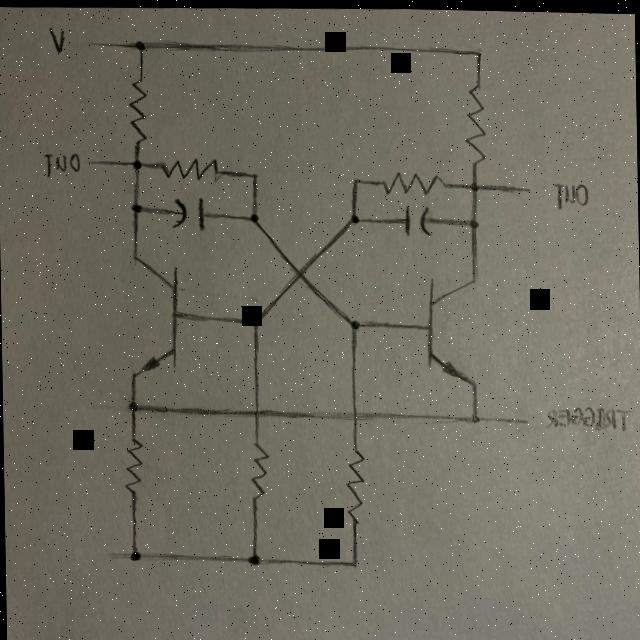capacitor: (158, 189, 212, 231), (393, 196, 434, 236)
crossover: (282, 253, 312, 288), (241, 396, 270, 427), (342, 399, 366, 427)
junction: (240, 305, 270, 332), (240, 543, 266, 573), (126, 537, 152, 567), (339, 547, 366, 573), (120, 391, 144, 419), (462, 403, 486, 427), (345, 308, 365, 334), (462, 210, 484, 233), (242, 203, 263, 226), (130, 30, 150, 54), (126, 196, 145, 221), (464, 37, 486, 58), (464, 171, 484, 193), (126, 150, 144, 174), (346, 204, 362, 228), (348, 167, 364, 187), (246, 163, 262, 182)
resistor: (458, 76, 488, 162), (154, 151, 226, 181), (342, 444, 368, 525), (378, 166, 450, 194), (124, 71, 150, 144), (244, 436, 270, 507), (120, 432, 144, 502)
terminal: (76, 539, 121, 565), (504, 405, 536, 427), (76, 29, 106, 50), (511, 173, 536, 194), (81, 151, 104, 167)
text: (542, 398, 634, 435), (40, 145, 81, 180), (551, 175, 591, 208), (45, 21, 66, 54)
transistor: (113, 250, 186, 379), (416, 263, 484, 389)
